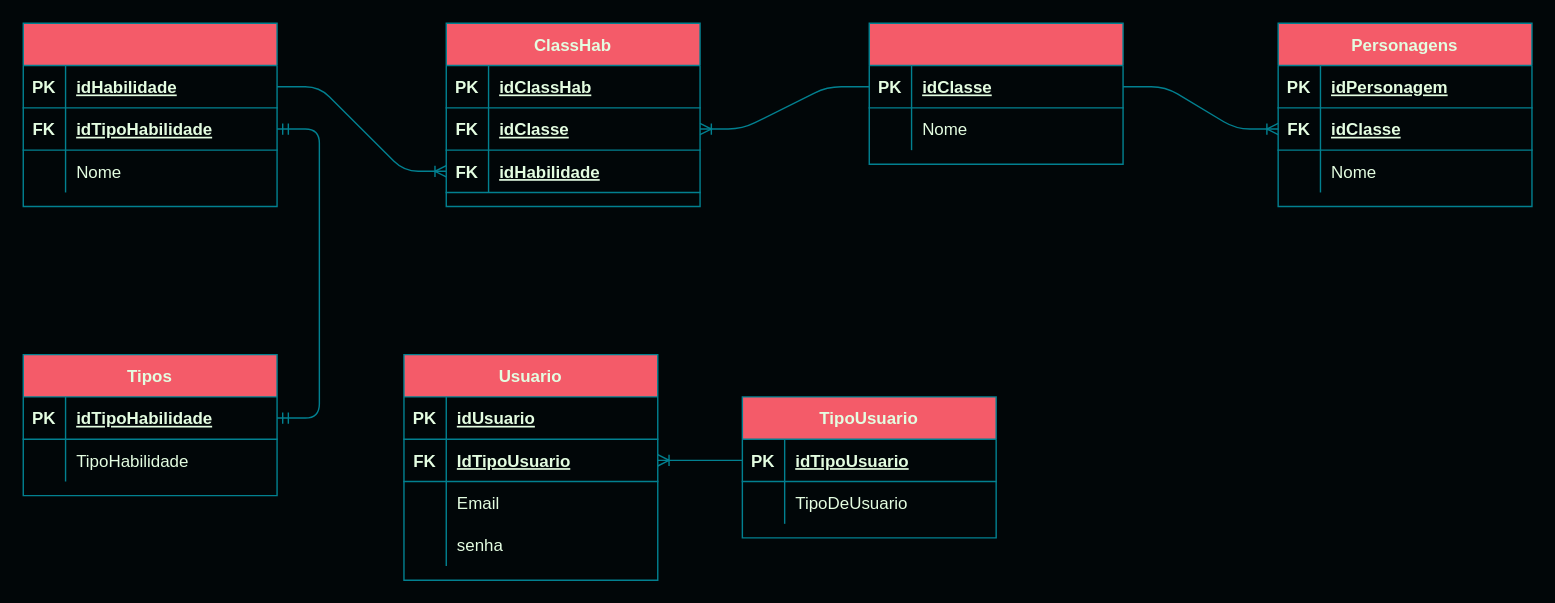
Image size: 1555x603. Some labels were removed from this diagram. Each missing label, with the box of its shape:
Classes: (868, 22, 1123, 164)
Habilidades: (22, 22, 277, 207)
